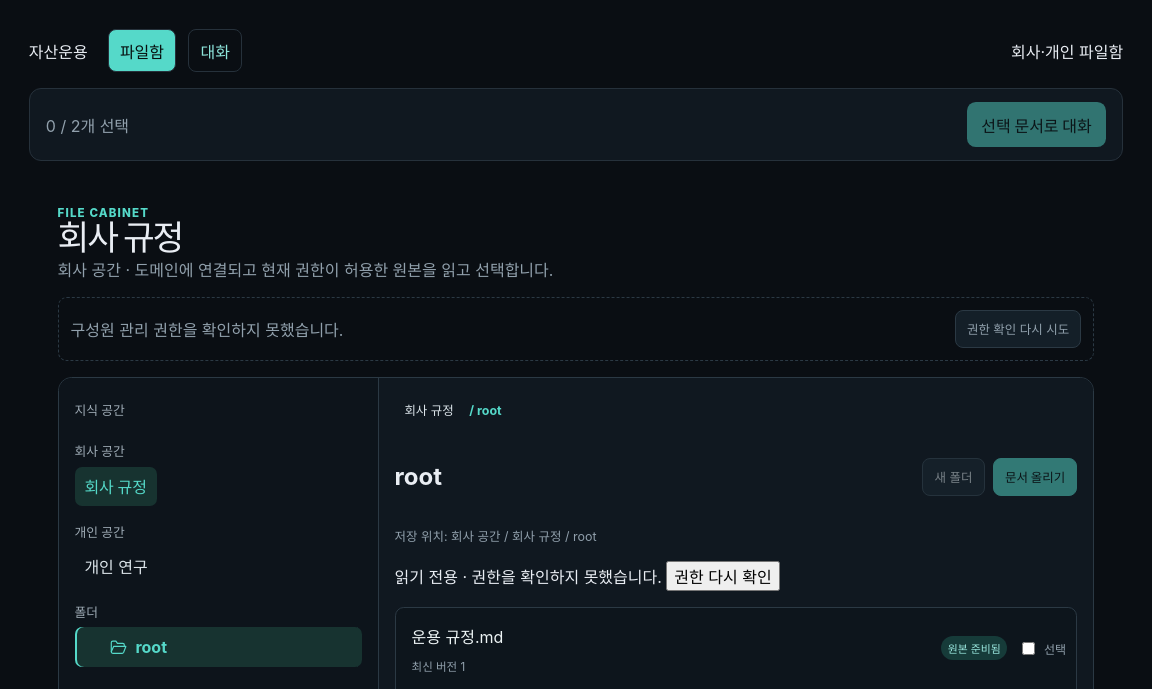
invalidates selection when exact-document restoration loses authorization
This screenshot has width=1152, height=689.
Step 1. Click the checkbox named "운용 규정.md 선택" → {"x": 1029, "y": 648}, box [1022, 642, 1035, 655]
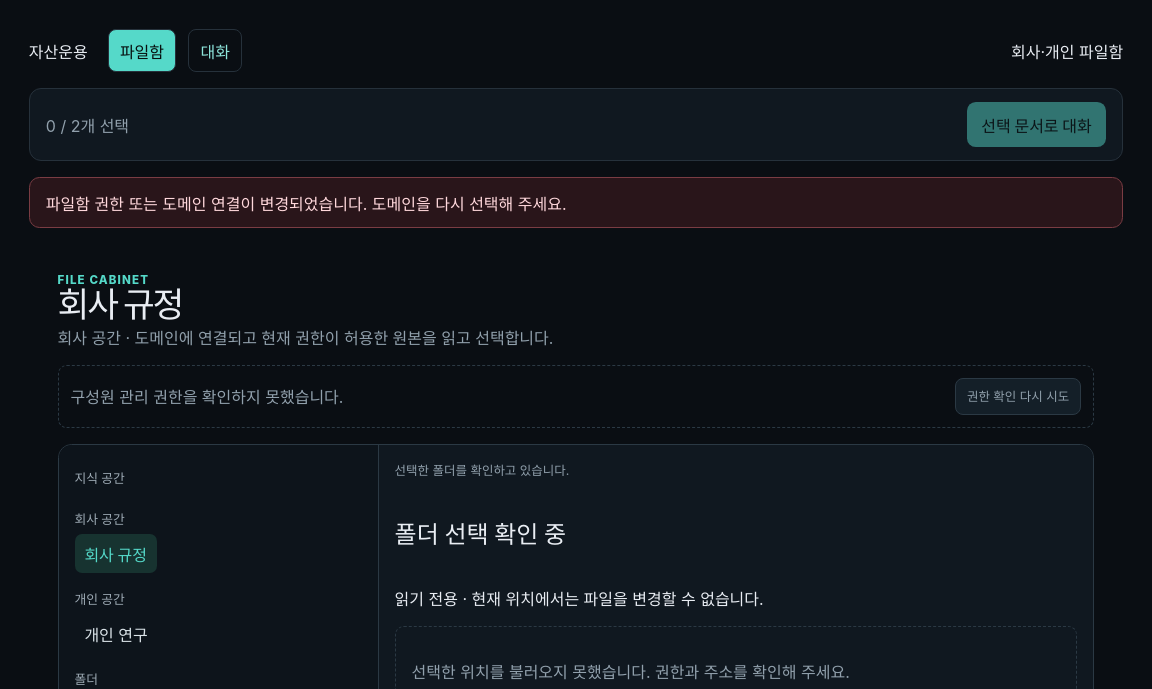
Expected: the button "선택 문서로 대화" is disabled, [967, 102, 1106, 147]
Expected: the text "파일함 권한 또는 도메인 연결이 변경되었습니다. 도메인을 다시 선택해 주세요." is shown, [29, 177, 1123, 228]
